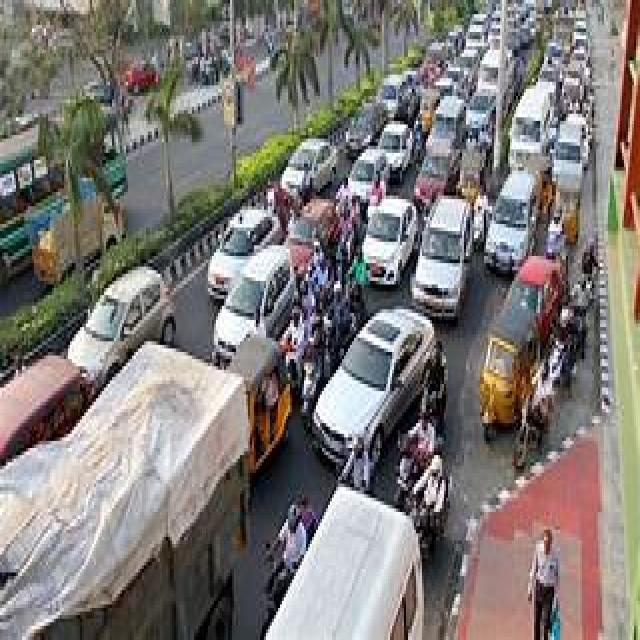Auto: (228, 338, 291, 474), (480, 304, 540, 434)
Car: (312, 307, 436, 464), (362, 196, 481, 319), (68, 264, 173, 394), (209, 209, 295, 366), (485, 171, 538, 272), (508, 256, 564, 343), (281, 144, 336, 194)
Truck: (0, 342, 249, 638)
